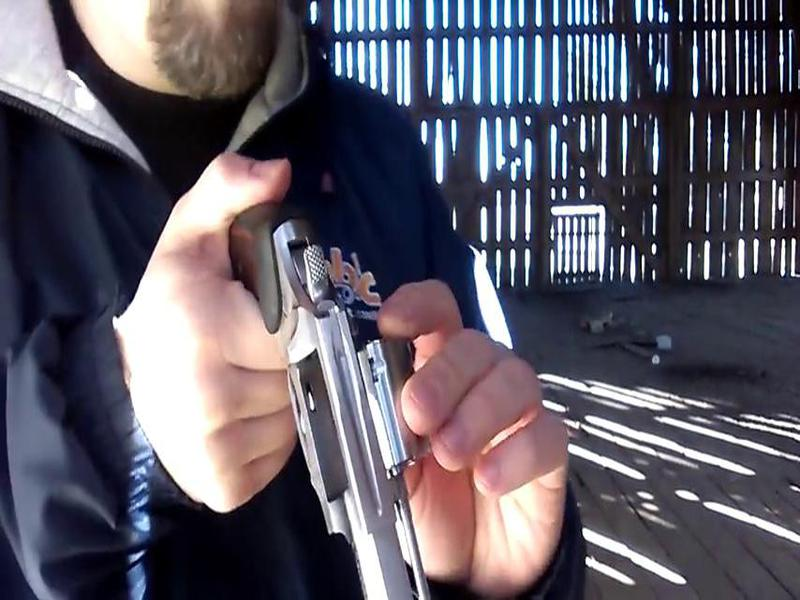Revolver: (213, 188, 455, 600)
